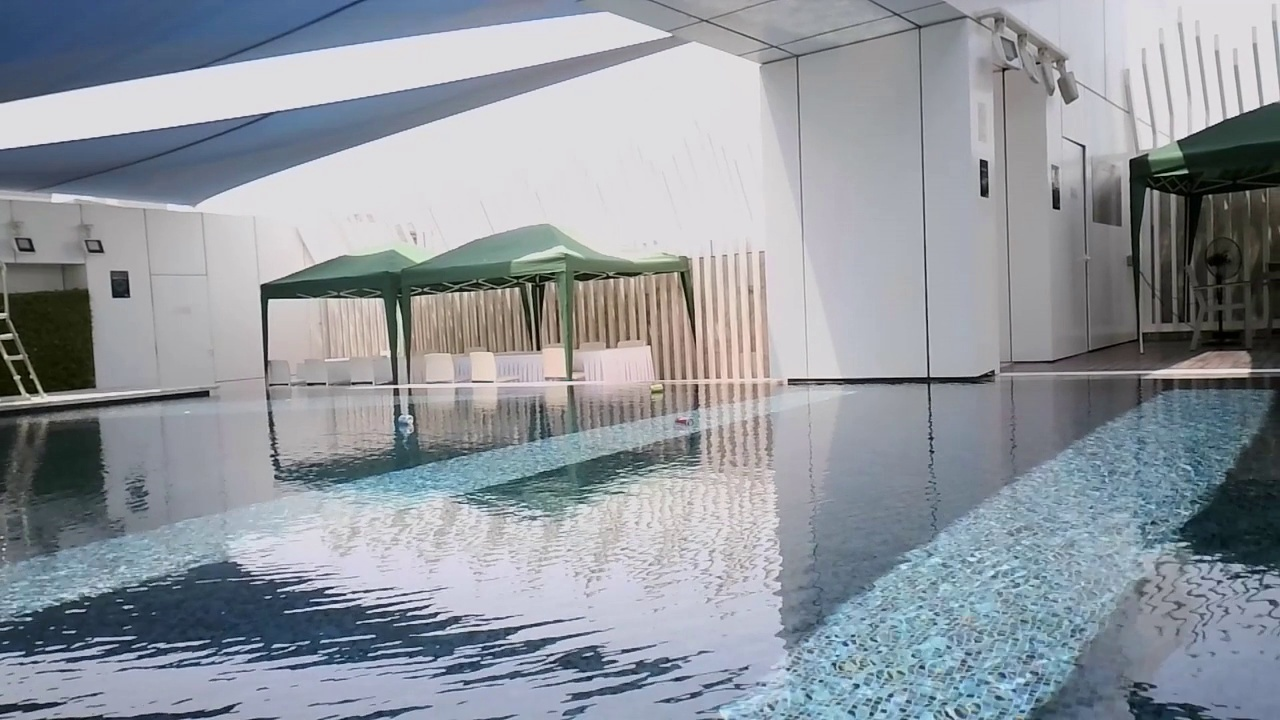debris: (676, 410, 699, 431), (393, 411, 418, 429), (645, 380, 667, 398)
